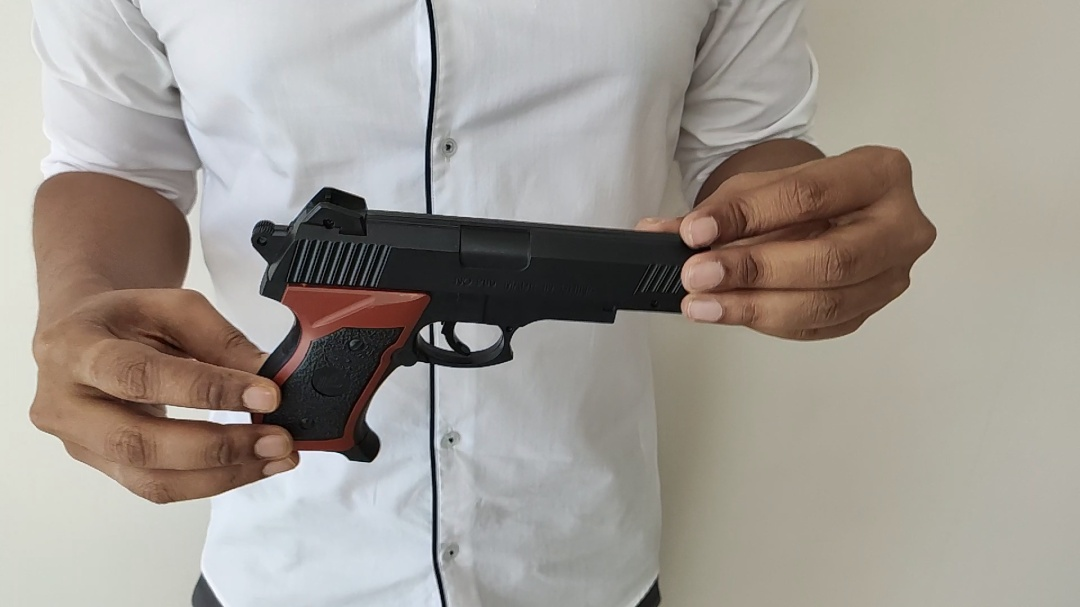gun: (249, 187, 682, 463)
